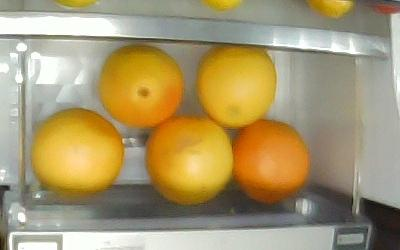grapefruit: (29, 106, 124, 196), (143, 114, 233, 204), (97, 43, 183, 127), (194, 43, 277, 129), (230, 117, 309, 202)
